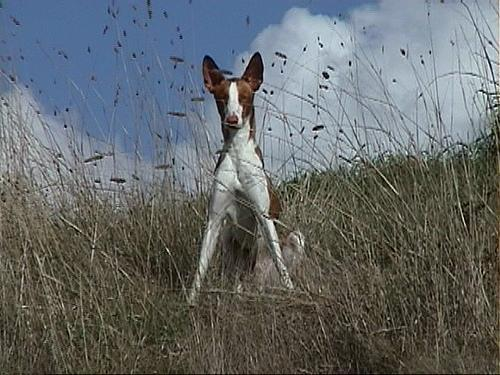Ibizan_hound: (187, 52, 306, 302)
